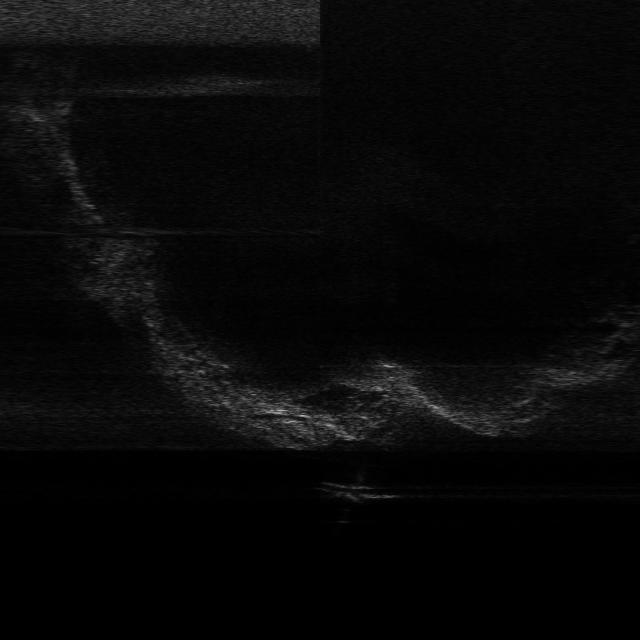plane: (311, 478, 407, 506)
